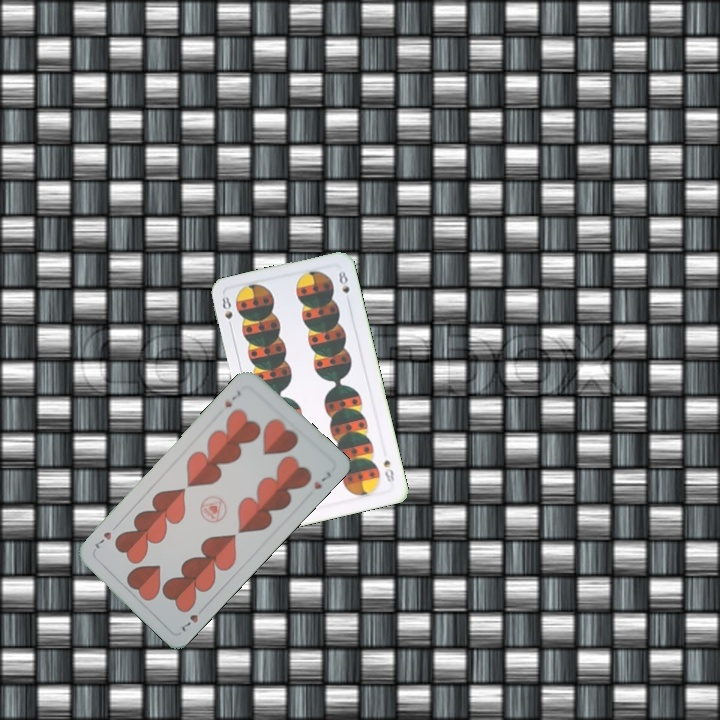H7: (177, 610, 201, 635), (220, 386, 243, 410)
S8: (379, 455, 397, 487), (218, 292, 235, 322)
